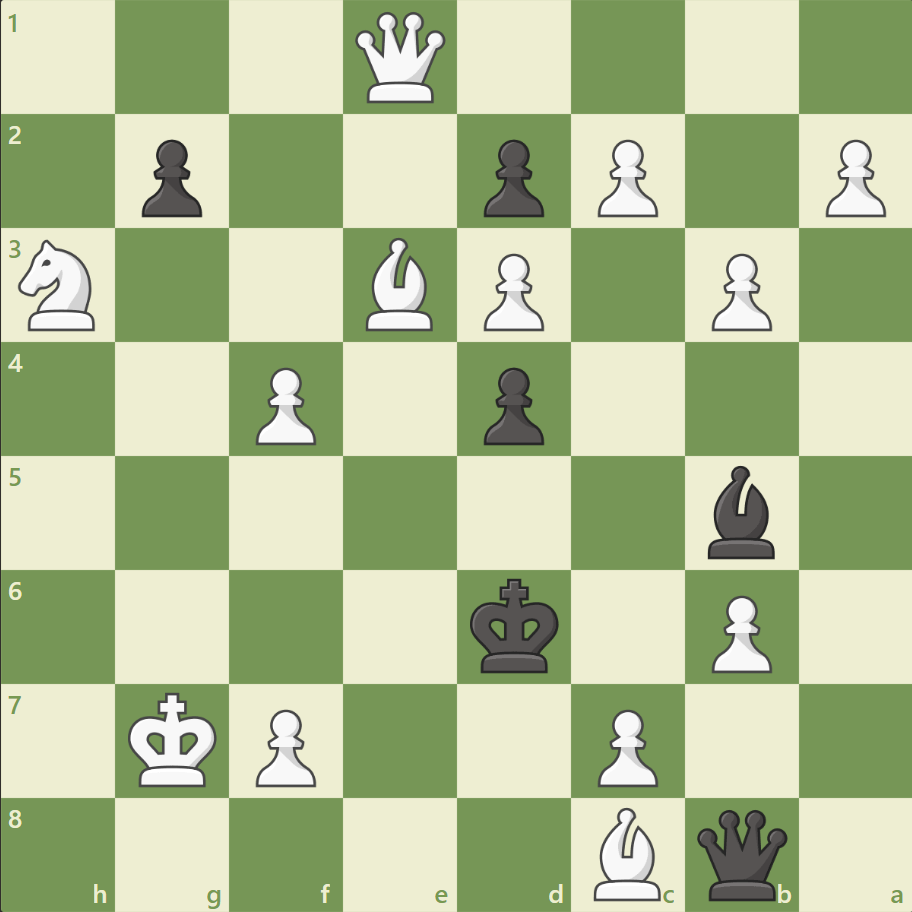B: (585, 801, 669, 904), (358, 233, 442, 336)
K: (124, 685, 224, 793)
N: (11, 234, 108, 337)
P: (247, 700, 322, 791), (701, 586, 776, 677), (247, 359, 322, 450), (701, 246, 776, 337), (474, 246, 549, 337), (588, 700, 662, 791), (815, 132, 889, 223), (588, 132, 662, 223)
Q: (351, 9, 450, 108)
b: (698, 460, 782, 563)
k: (465, 571, 565, 679)
p: (474, 359, 549, 450), (474, 132, 549, 223), (133, 132, 208, 223)
q: (691, 804, 790, 903)
